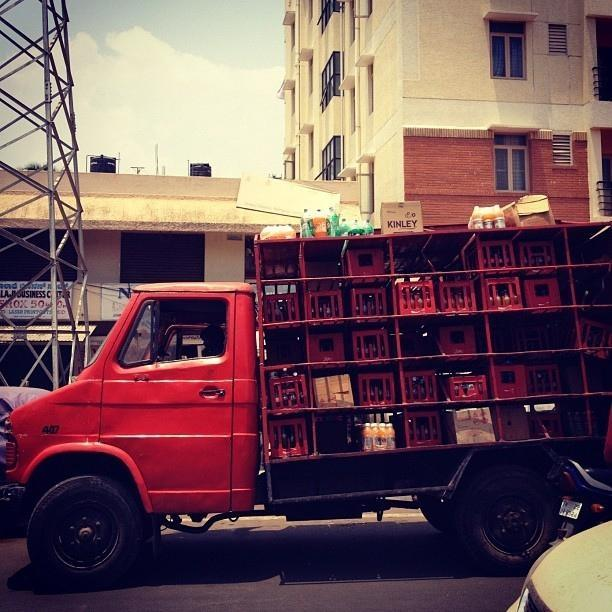car: (513, 527, 612, 605)
motorcycle: (548, 454, 612, 538)
truck: (0, 196, 610, 593)
